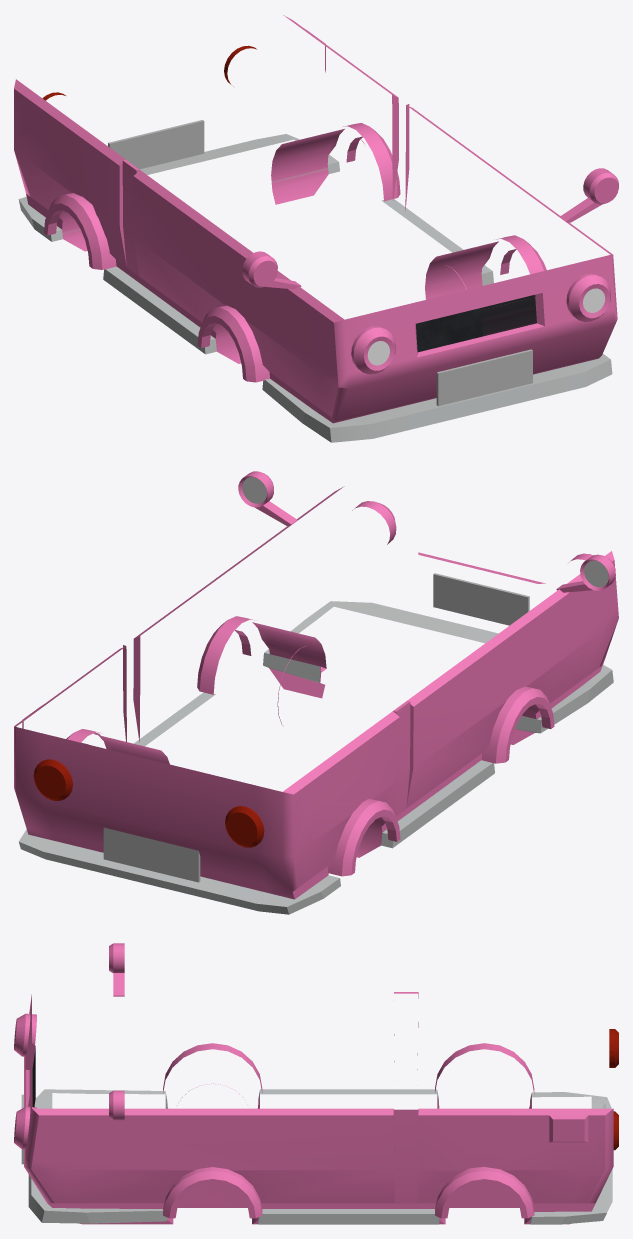
The model's file is ROUND-BOTTOM-5xb4ke1y.glb.
The picture shows the model from 3 angles, top to bottom: view 1: azimuth 30°, elevation 25°; view 2: azimuth 150°, elevation 25°; view 3: azimuth 270°, elevation 25°; orthographic projection. The views are drawn at different scales.
Bounding box in the file's own units: 2.09 × 0.9598 × 3.34.
2 materials, 1 textured.
